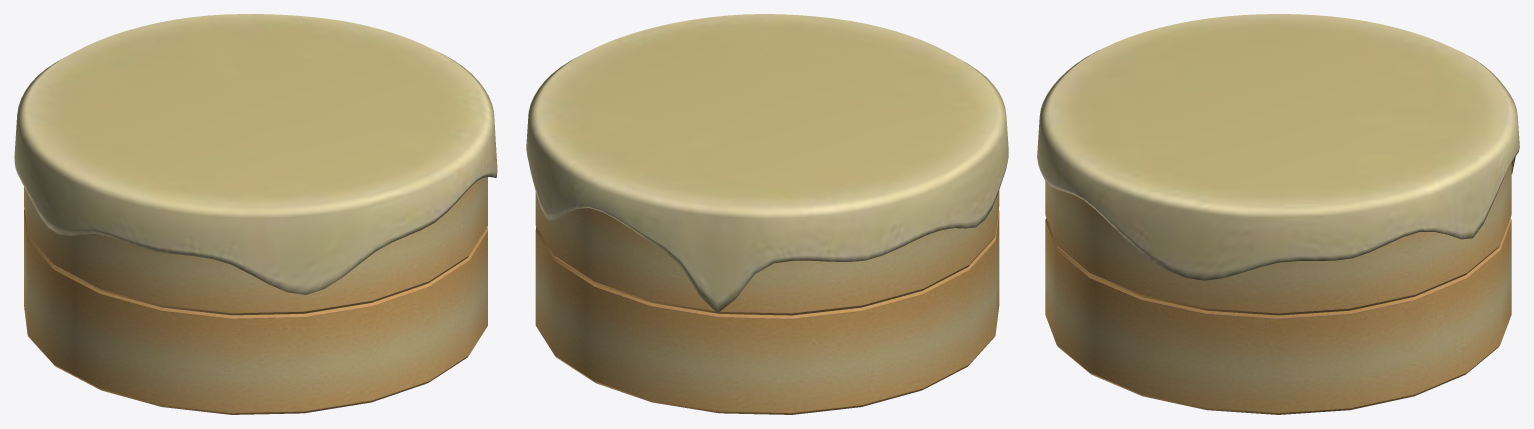
The model's file is creamCake.glb.
3 views of the same model, side by side, from view 1: azimuth 30°, elevation 25°; view 2: azimuth 150°, elevation 25°; view 3: azimuth 270°, elevation 25° (orthographic).
Parts seen in each view (by area): view 1: JamCakeCreamLayer, JamCakeBottomLayer, JamCakeLayer; view 2: JamCakeCreamLayer, JamCakeBottomLayer, JamCakeLayer; view 3: JamCakeCreamLayer, JamCakeBottomLayer, JamCakeLayer.
Boxes of the visible parts, x1,y1,x2,y2 form: JamCakeCreamLayer: (14,14,497,294); JamCakeBottomLayer: (24,210,487,414); JamCakeLayer: (24,177,487,314); JamCakeCreamLayer: (526,14,1008,313); JamCakeBottomLayer: (535,210,999,414); JamCakeLayer: (535,190,999,315); JamCakeCreamLayer: (1037,14,1519,280); JamCakeBottomLayer: (1045,218,1511,414); JamCakeLayer: (1045,163,1511,315).
Bounding box in the file's own units: 0.2749 × 0.13 × 0.2749.
Materials: 1 (1 with a texture image).
